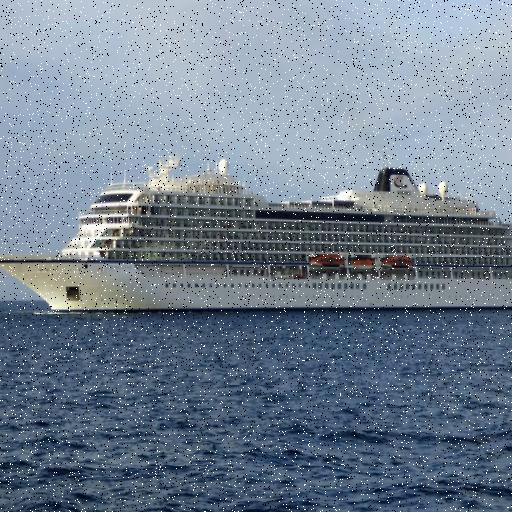cruises: (1, 159, 512, 320)
